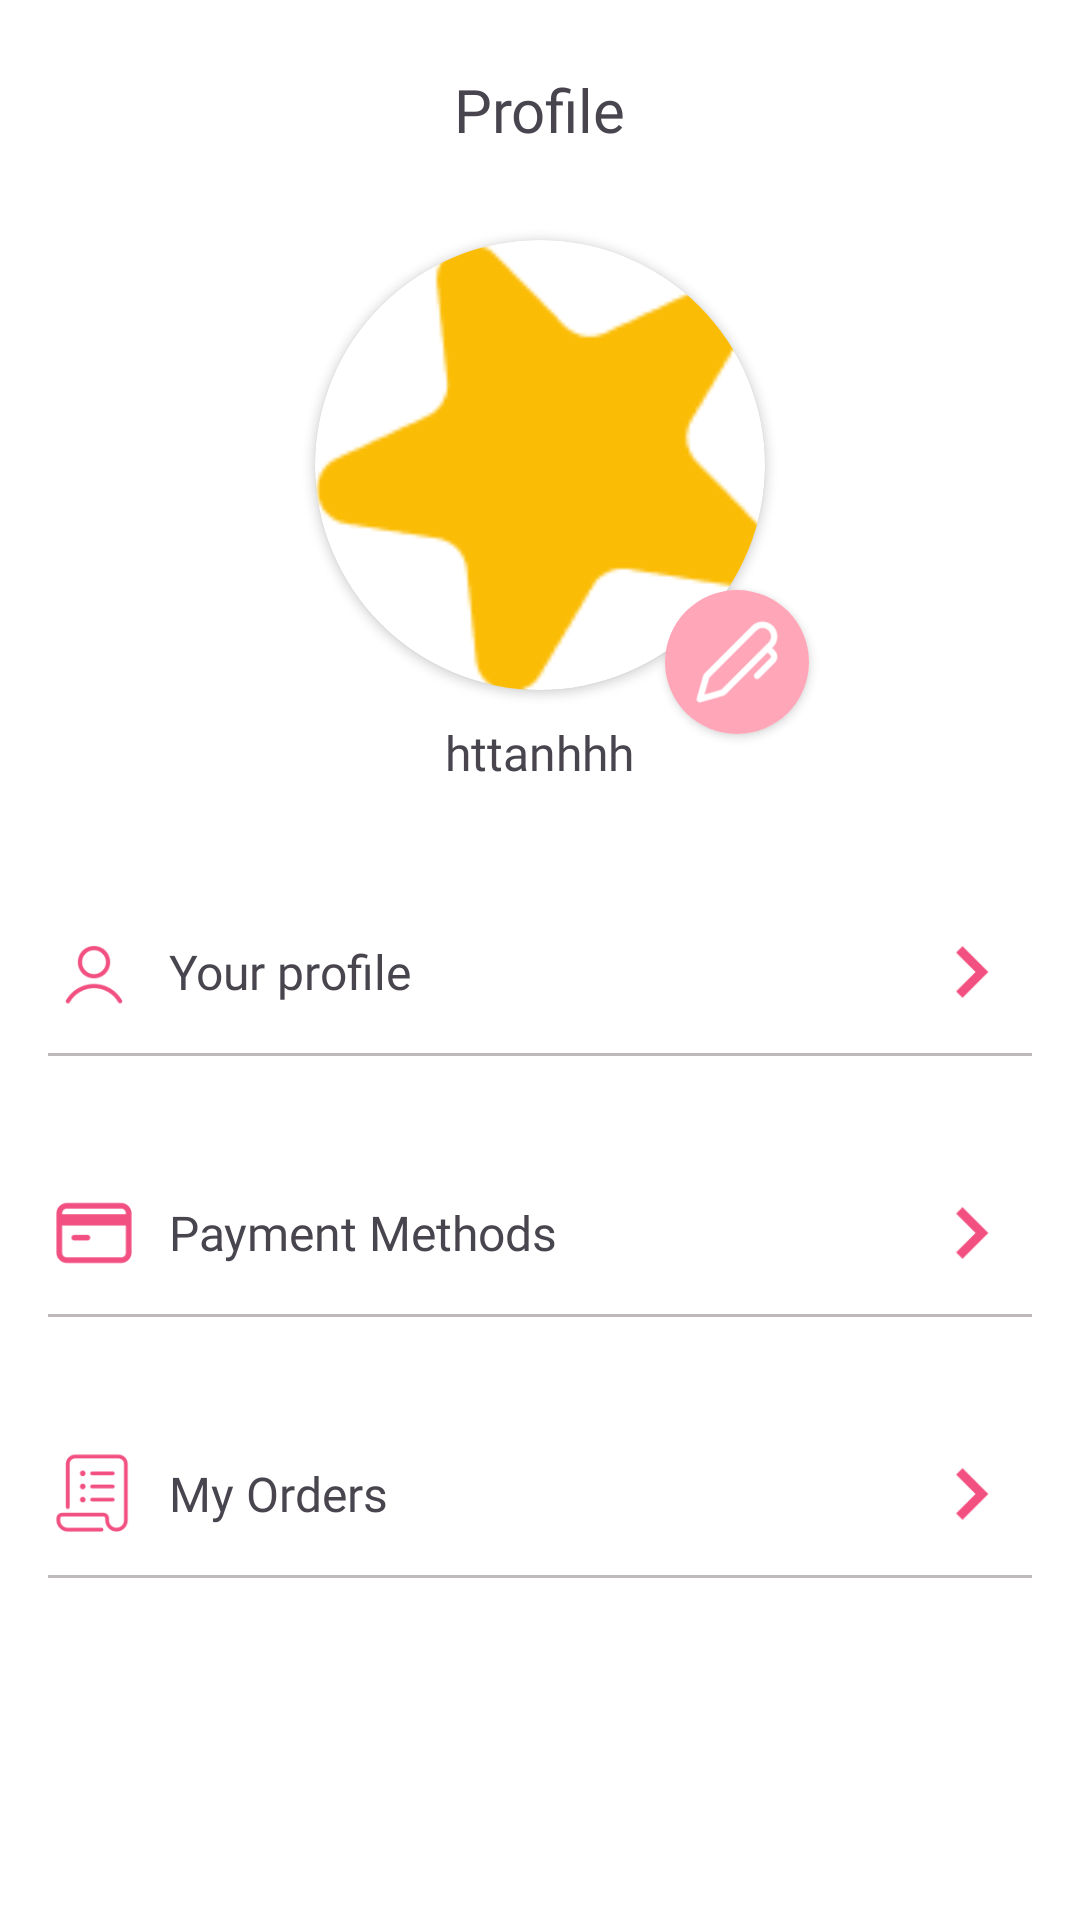

Locate icon controls on the screen. Image size 1080w x 1920h, boxes as {"left": x1, "top": y1, "right": x2, "bottom": y2}.
ta cardicon: {"left": 56, "top": 1202, "right": 132, "bottom": 1264}
ta ordericon: {"left": 56, "top": 1454, "right": 128, "bottom": 1532}
ta personicon: {"left": 65, "top": 946, "right": 123, "bottom": 1004}
